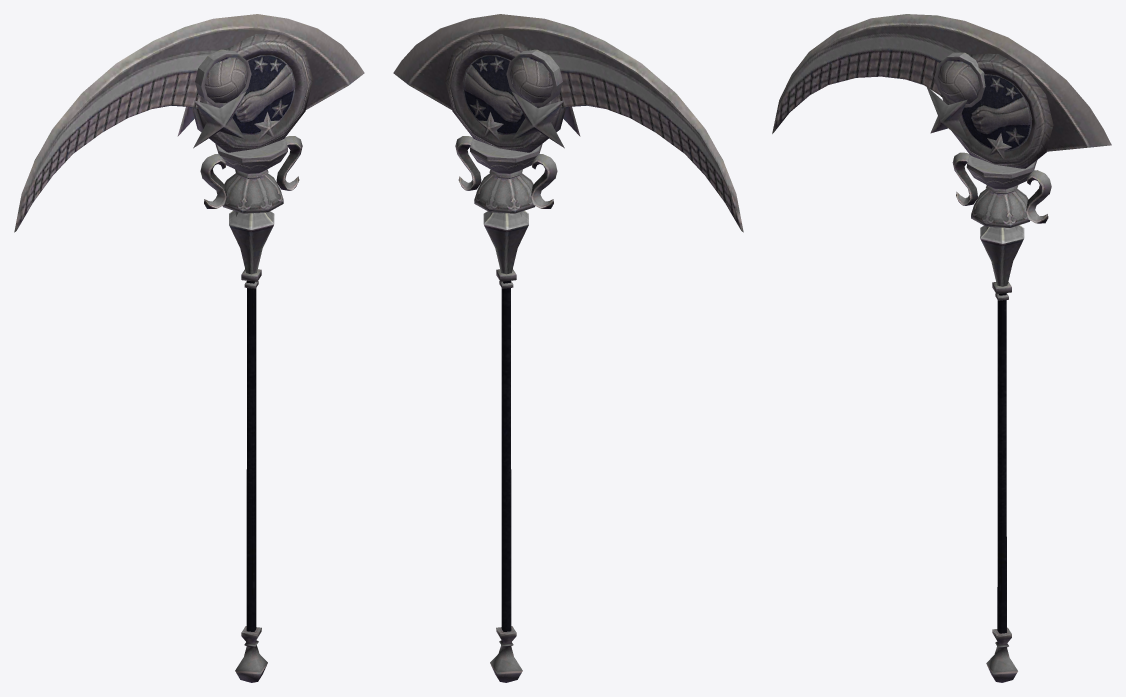
Rendered from Weapon24_A.FBX.
3 views of the same model, side by side, from view 1: azimuth 30°, elevation 25°; view 2: azimuth 150°, elevation 25°; view 3: azimuth 330°, elevation 25° (orthographic). The views are drawn at different scales.
Parts seen in each view (by area): view 1: Weapon24_A; view 2: Weapon24_A; view 3: Weapon24_A.
Part boxes in pixels (<box>): Weapon24_A: <box>14,14,364,682</box>; Weapon24_A: <box>393,14,743,682</box>; Weapon24_A: <box>772,14,1111,682</box>.
Size of the model in its own units: 117 by 215 by 21.94.
